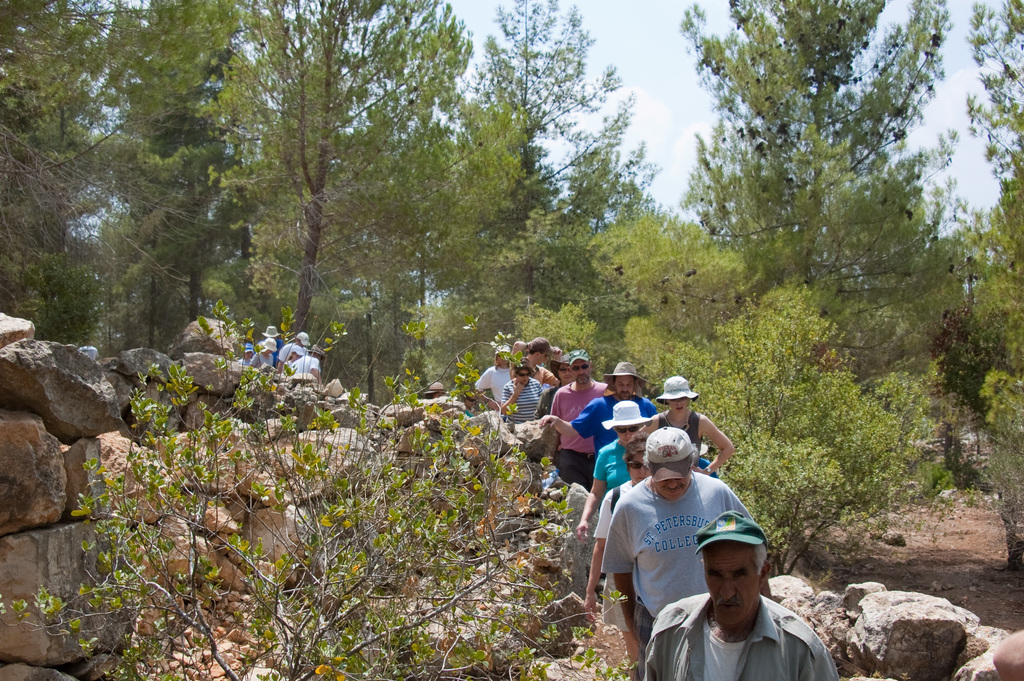Tree: (0, 0, 1023, 485)
